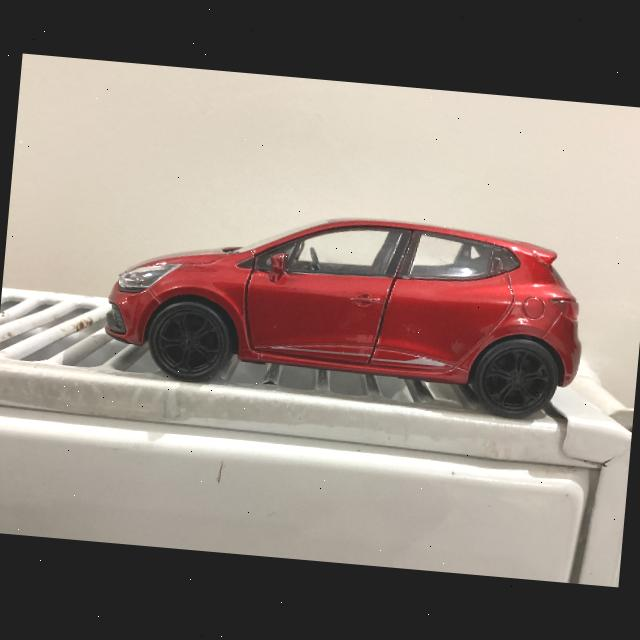Dogru_Jant: (154, 308, 224, 375), (483, 345, 552, 410)
